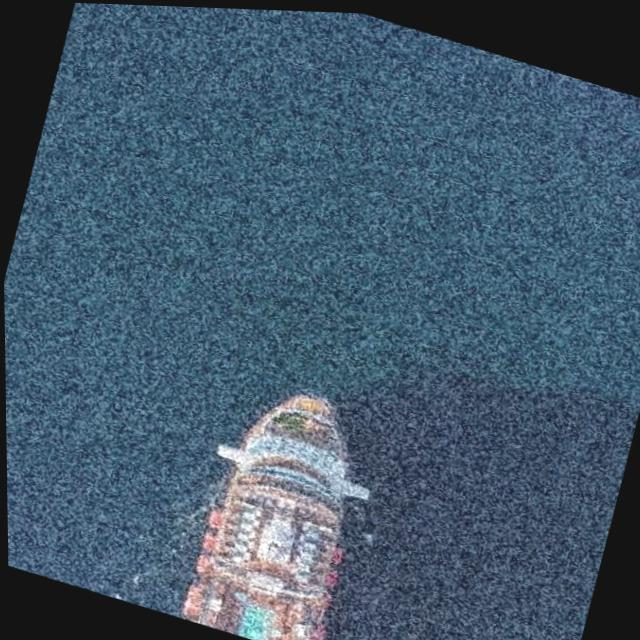ship2: (178, 391, 368, 640)
